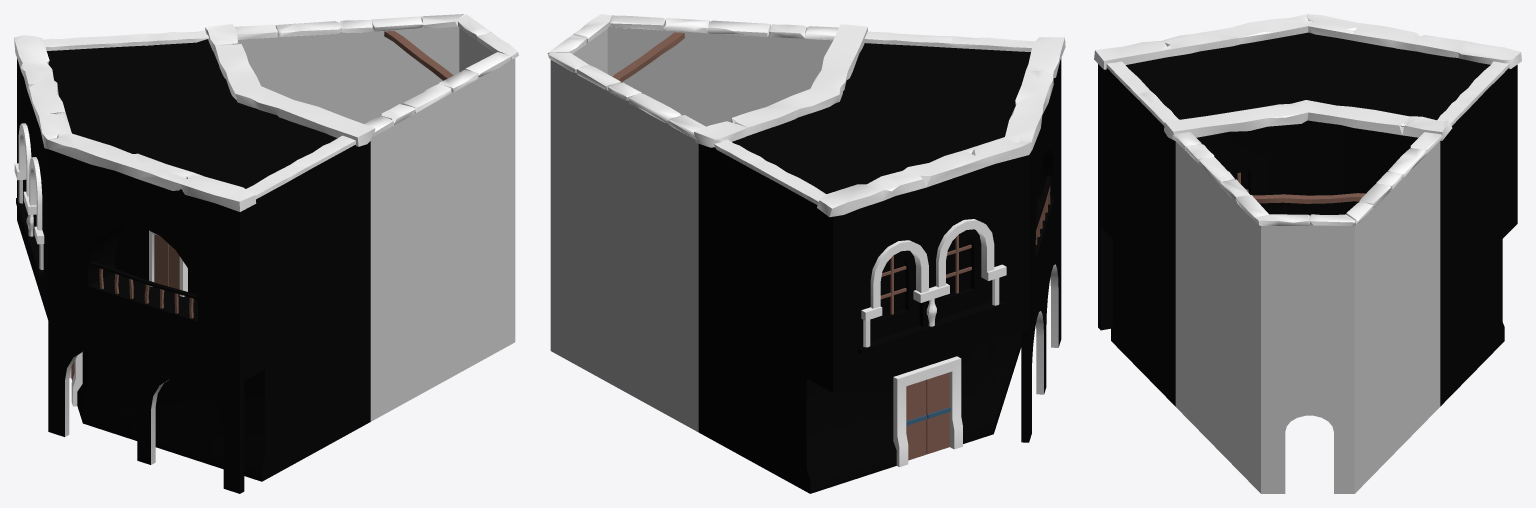
Rendered from civilian_house_09.FBX.
The picture shows the model from 3 angles, left to right: view 1: azimuth 30°, elevation 25°; view 2: azimuth 150°, elevation 25°; view 3: azimuth 270°, elevation 25°; orthographic projection. The views are drawn at different scales.
Parts seen in each view (by area): view 1: civilian_house_09_LOD0; view 2: civilian_house_09_LOD0; view 3: civilian_house_09_LOD0.
Part boxes in pixels (x1,y1,x2,y2): civilian_house_09_LOD0: [14, 14, 518, 493]; civilian_house_09_LOD0: [547, 14, 1065, 493]; civilian_house_09_LOD0: [1094, 14, 1521, 493].
Size of what is drawn, in the model's own units: 1711 by 1080 by 1507.
